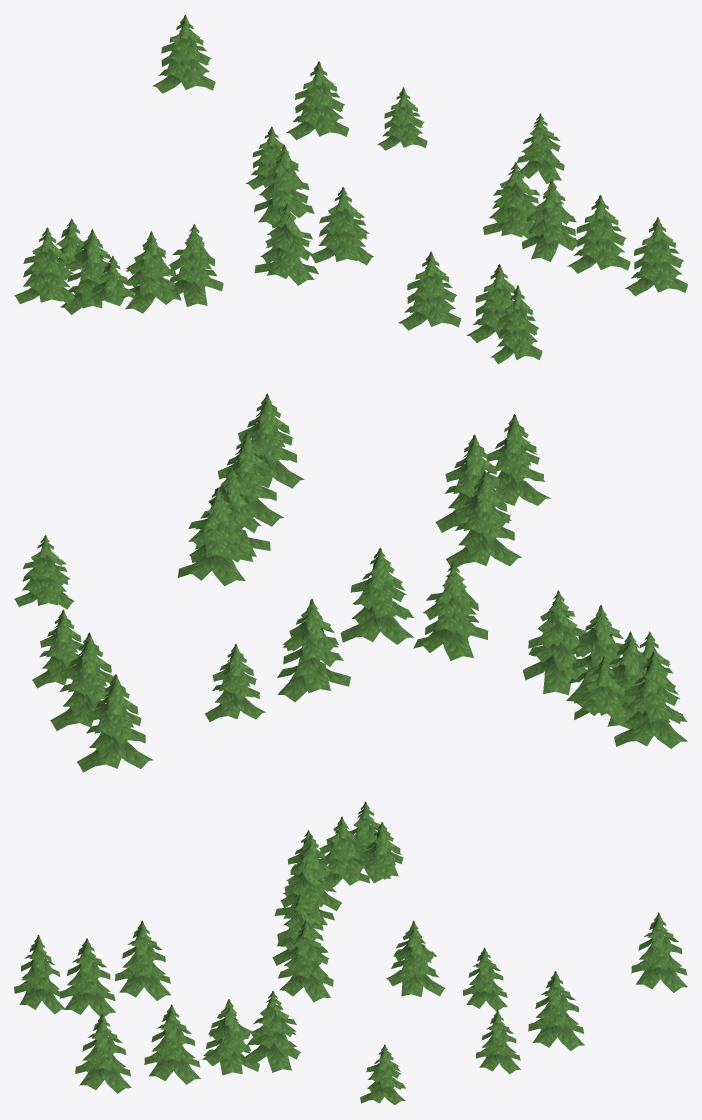
The model's file is songshuye_07.FBX.
The picture shows the model from 3 angles, top to bottom: view 1: azimuth 30°, elevation 25°; view 2: azimuth 150°, elevation 25°; view 3: azimuth 270°, elevation 25°; orthographic projection. The views are drawn at different scales.
Visible parts, largest first — view 1: Object033; view 2: Object033; view 3: Object033.
Part boxes in pixels (x1,y1,x2,y2): Object033: [14, 14, 687, 364]; Object033: [14, 393, 687, 772]; Object033: [14, 801, 687, 1105].
Size of the model in its own units: 4209 by 743 by 4796.
